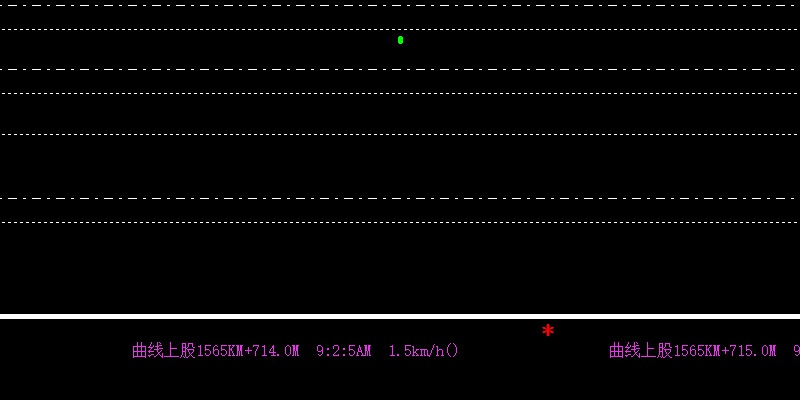face_down: (398, 24, 405, 48)
star: (538, 320, 557, 340)
